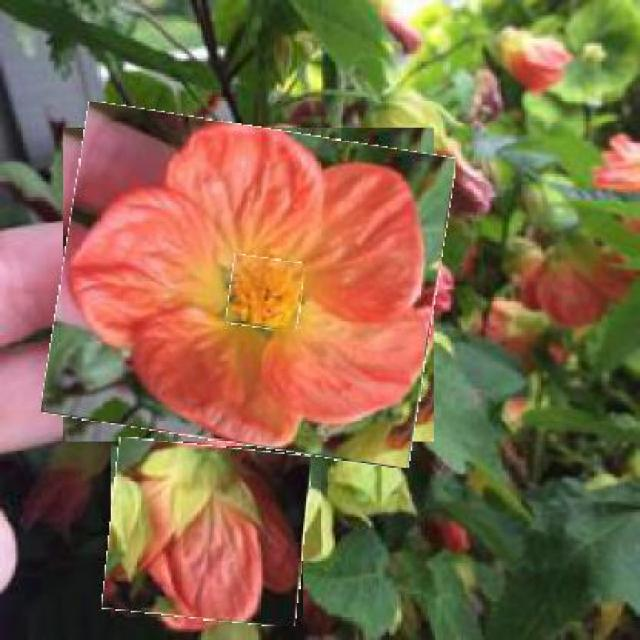Flower: (52, 115, 446, 456), (106, 442, 309, 623), (228, 256, 304, 330)
